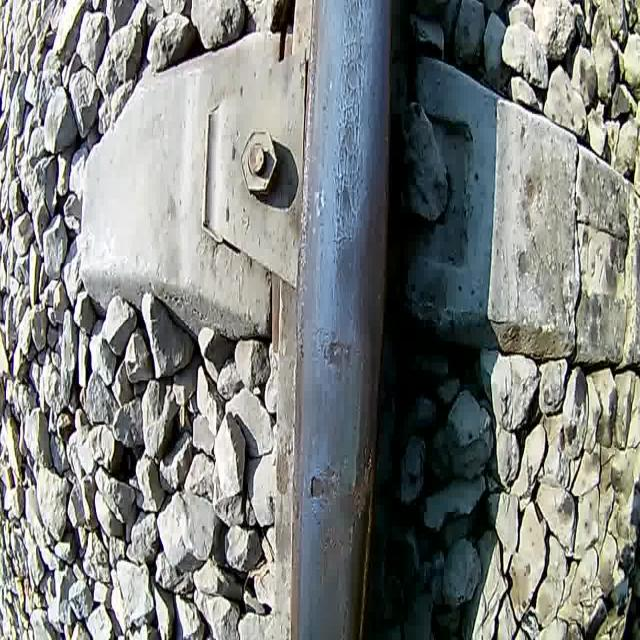Squats: (329, 0, 368, 227), (308, 324, 358, 386), (344, 443, 378, 526), (331, 231, 360, 312), (306, 458, 344, 509)
